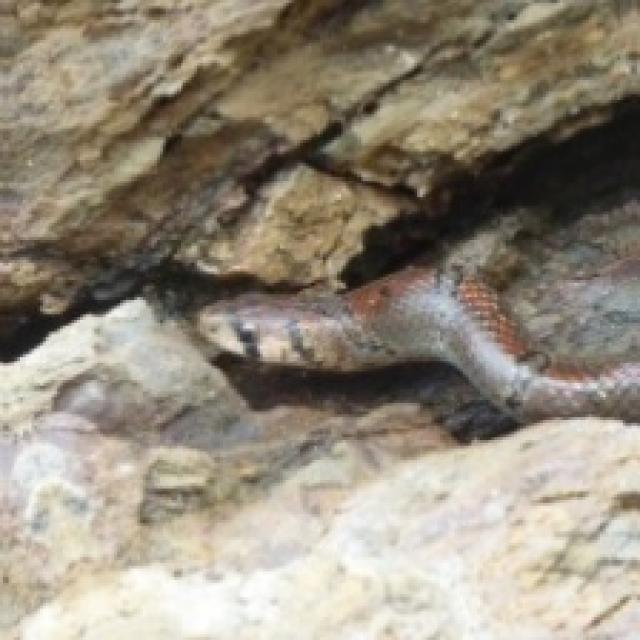northern short-headed snake: (197, 269, 637, 420)
